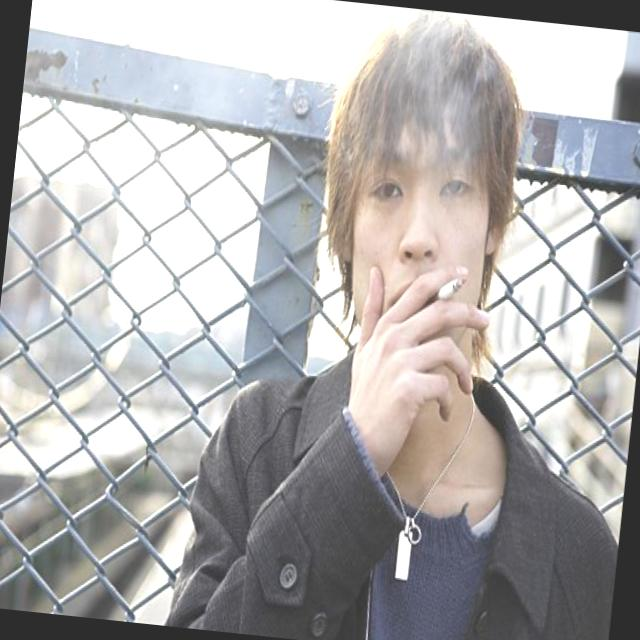smoke: (432, 268, 468, 313)
